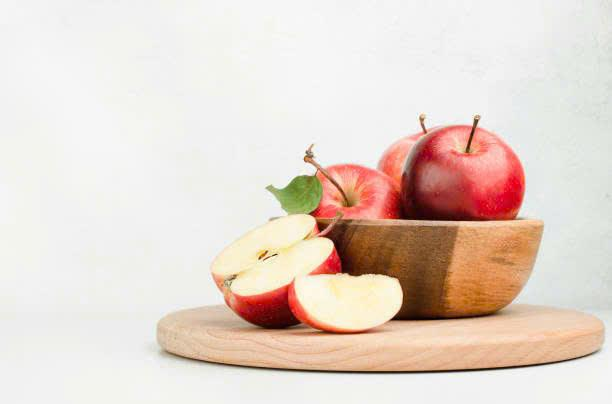apple: (209, 215, 323, 317), (408, 125, 532, 218), (291, 268, 414, 337)
